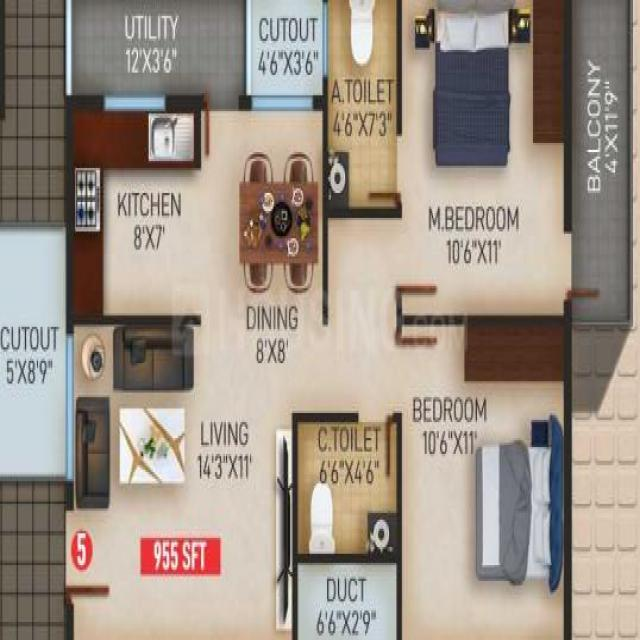Balcony-Sitout: (573, 3, 633, 320)
Bedroom: (401, 327, 571, 640)
Bedroom with Toilet: (400, 0, 572, 323)
Dining: (239, 149, 320, 301)
Enterance-Foyer: (67, 501, 111, 615)
Kitchen: (68, 106, 204, 318)
Living: (73, 326, 296, 640)
Toilet: (324, 0, 400, 217), (298, 417, 402, 562)
Utility: (69, 0, 247, 103)
